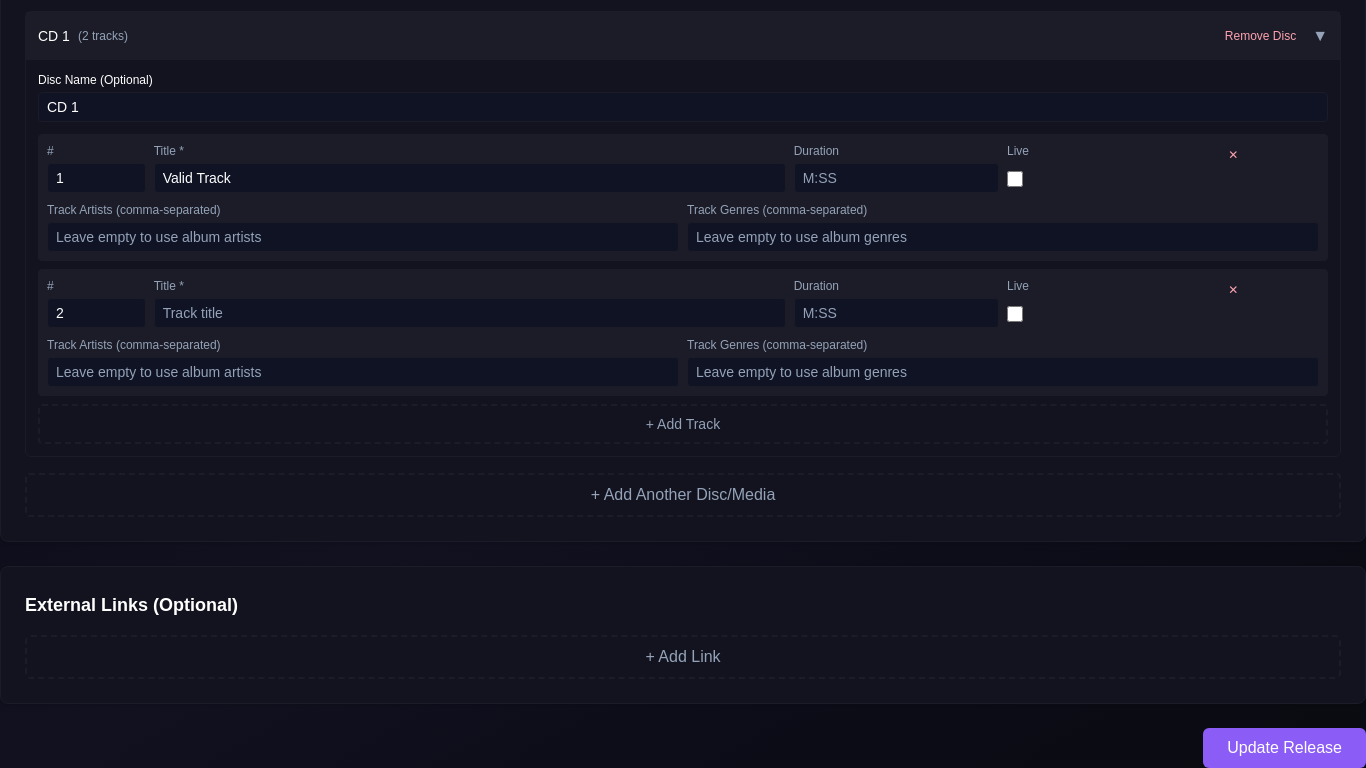
AddReleaseForm - Edit Mode › shows validation error for empty track title
(page scrolled)
Click the button "Update Release" at x=1285, y=748, box [1203, 728, 1365, 767]
(page scrolled)
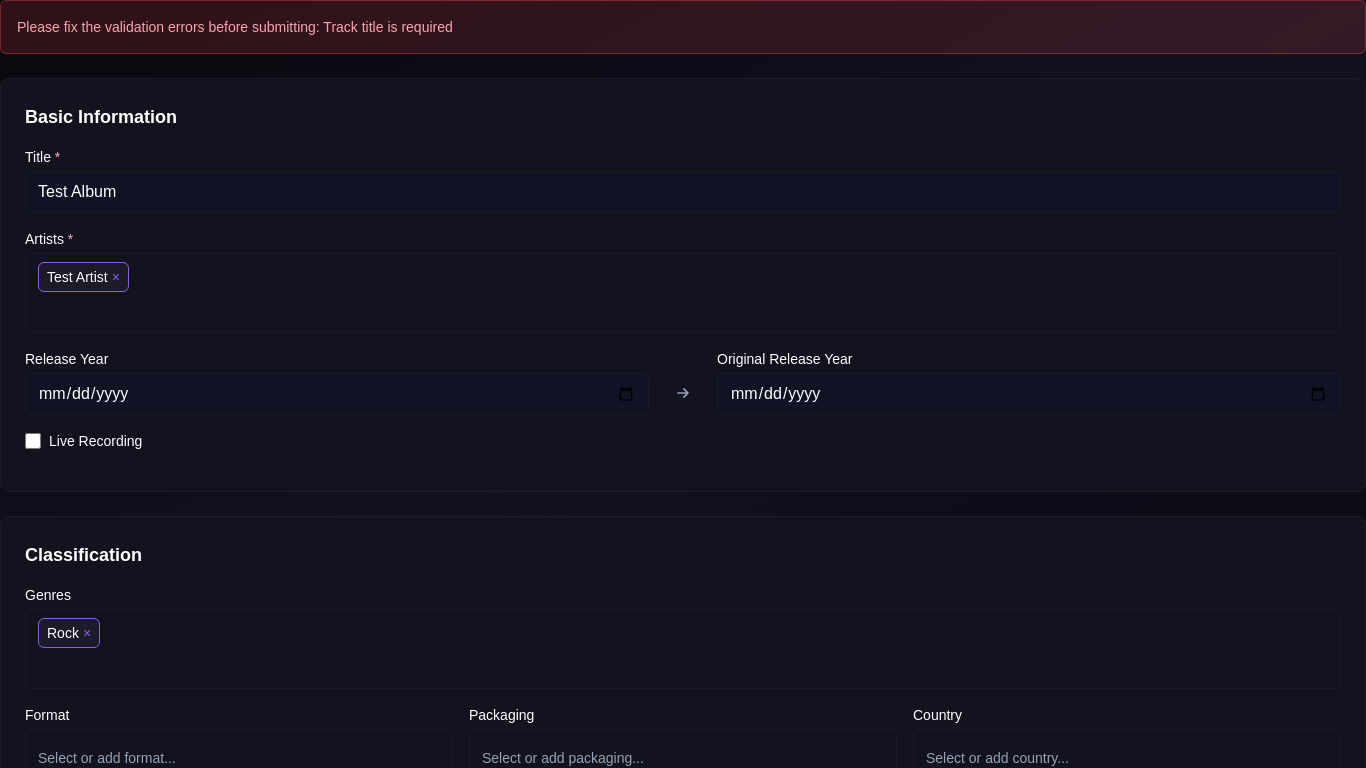
Result: the message shows "Track title is required" at [17, 19, 453, 35]
